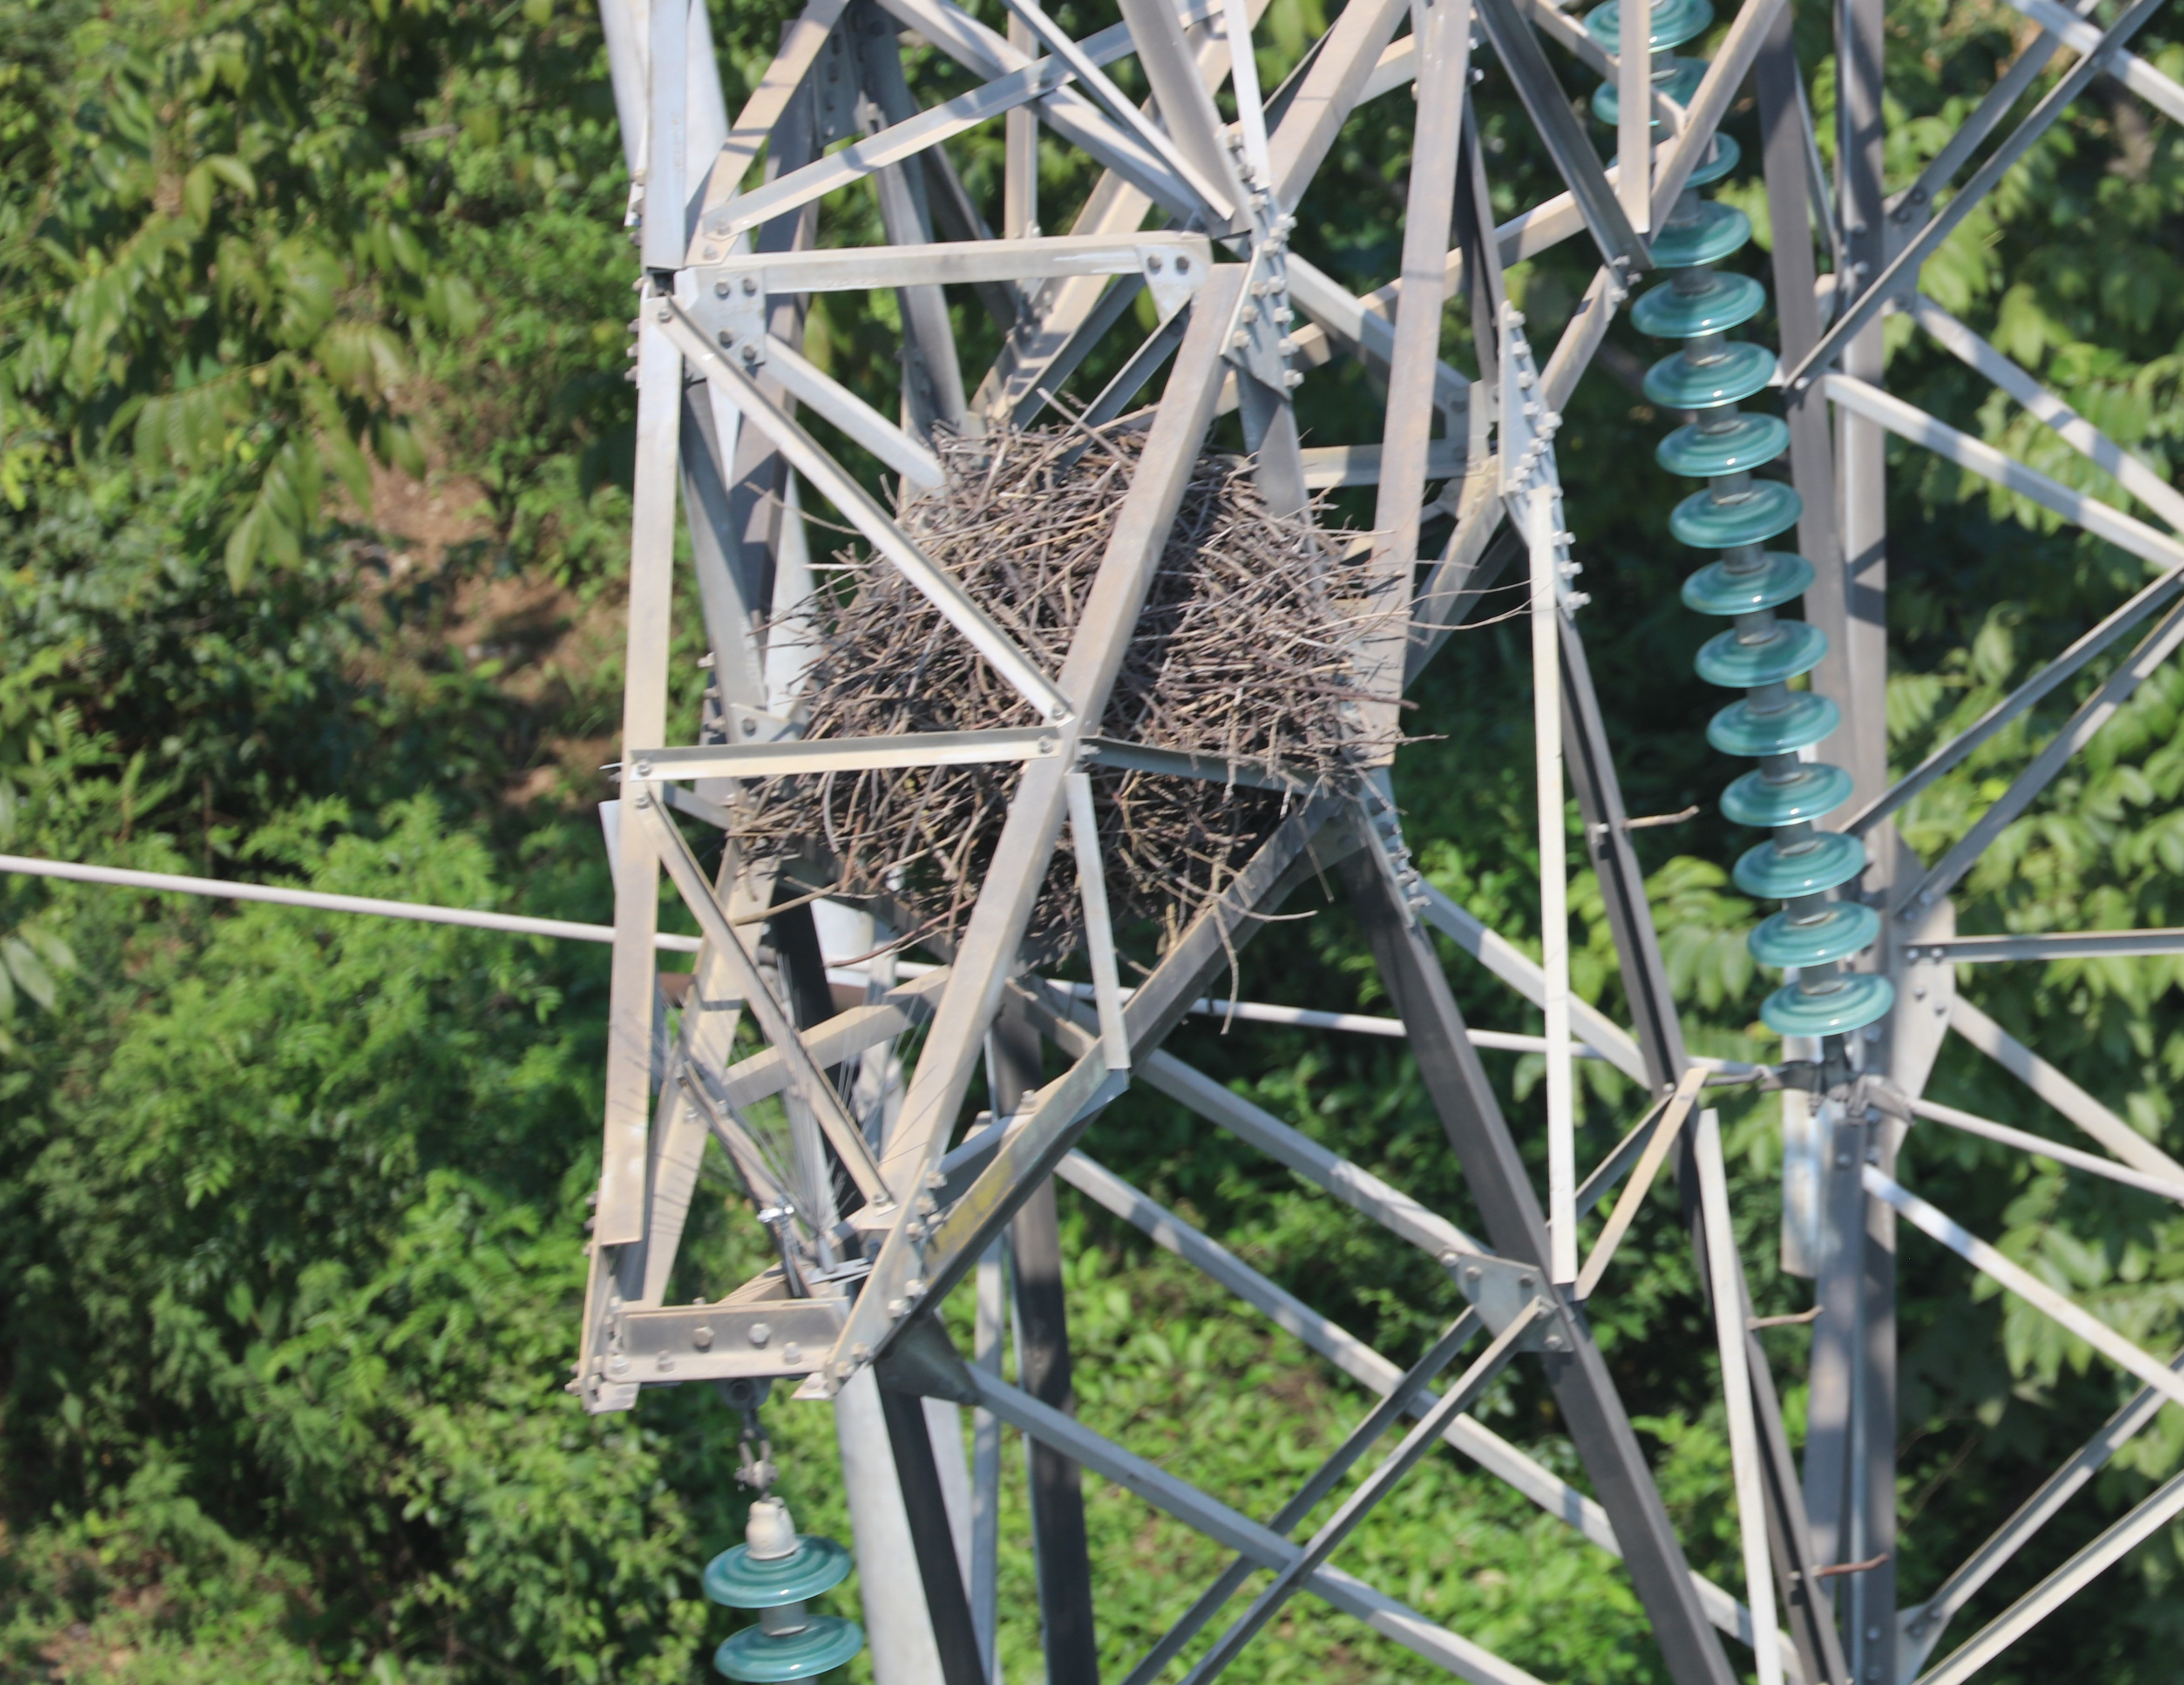niaowo: (736, 416, 1402, 966)
